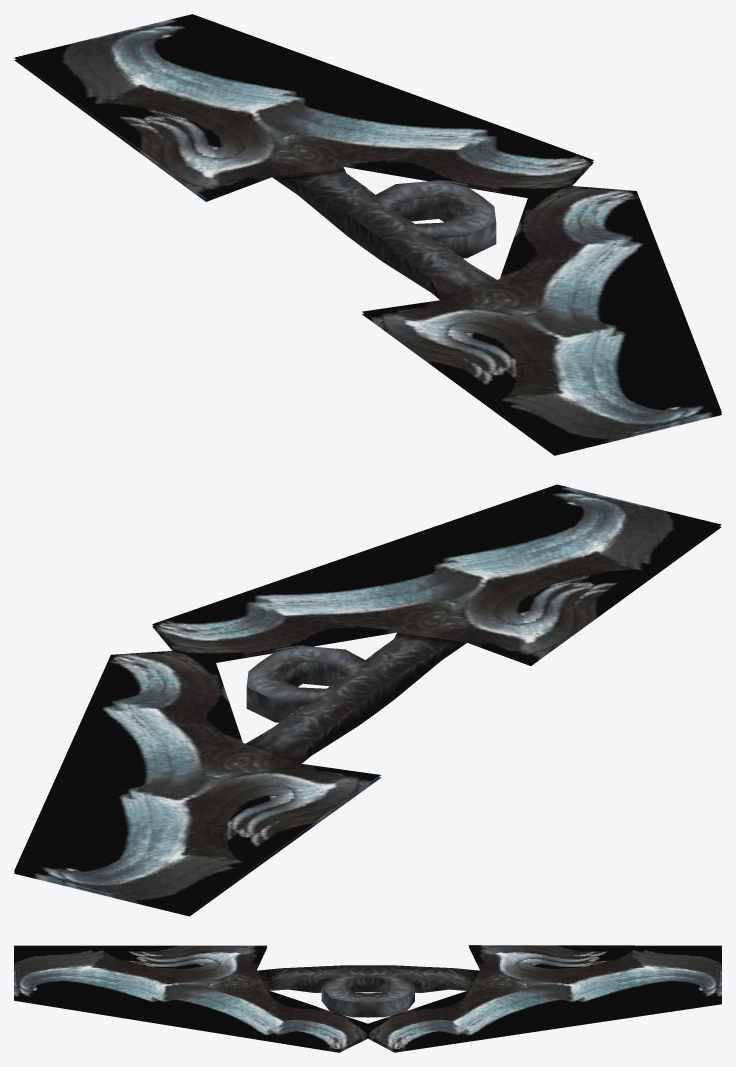
The picture shows the model from 3 angles, top to bottom: view 1: azimuth 30°, elevation 25°; view 2: azimuth 150°, elevation 25°; view 3: azimuth 270°, elevation 25°; orthographic projection. The views are drawn at different scales.
Parts seen in each view (by area): view 1: LwpnLN04; view 2: LwpnLN04; view 3: LwpnLN04.
Part boxes in pixels (<box>): LwpnLN04: <box>14,14,721,455</box>; LwpnLN04: <box>14,484,721,916</box>; LwpnLN04: <box>14,945,721,1052</box>.
Size of the model in its own units: 5.07 by 0.333 by 14.29.
1 material, 1 textured.
